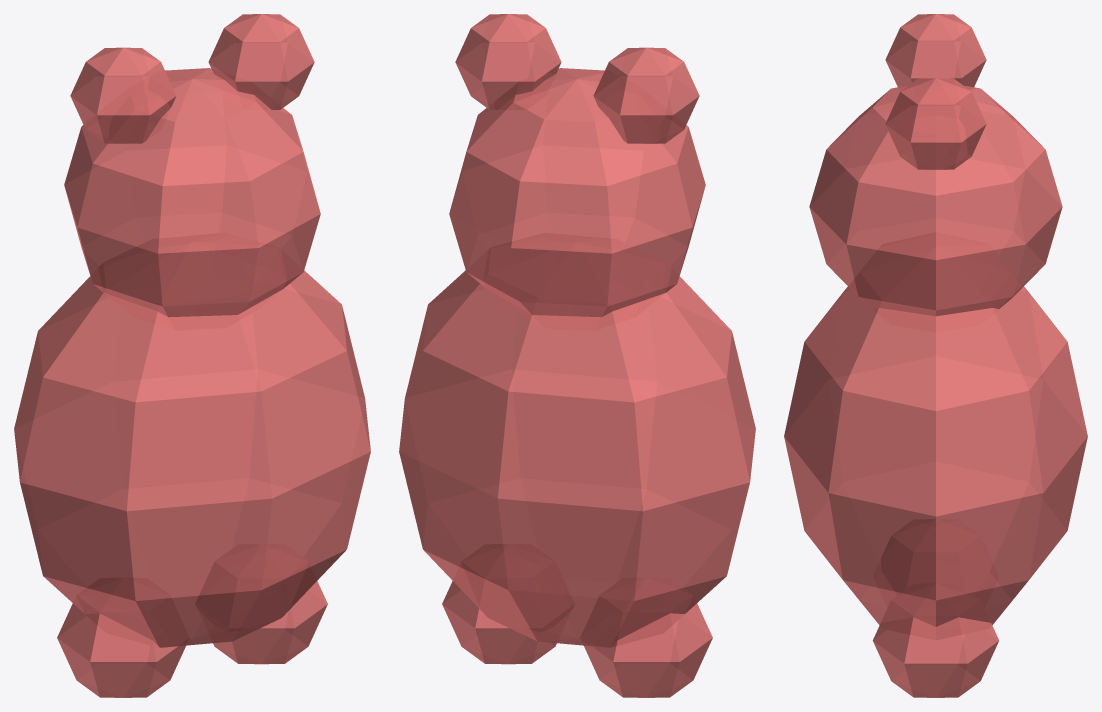
File: gummy_bear.glb
The picture shows the model from 3 angles, left to right: view 1: azimuth 30°, elevation 25°; view 2: azimuth 150°, elevation 25°; view 3: azimuth 270°, elevation 25°; orthographic projection. The views are drawn at different scales.
Visible parts, largest first — view 1: Sphere, Sphere.001, Sphere.004, Sphere.005, Sphere.002, Sphere.003; view 2: Sphere, Sphere.001, Sphere.004, Sphere.005, Sphere.002, Sphere.003; view 3: Sphere, Sphere.001, Sphere.005, Sphere.003, Sphere.004, Sphere.002.
Part boxes in pixels (x1,y1,x2,y2): Sphere: (14, 233, 370, 647); Sphere.001: (64, 68, 320, 329); Sphere.004: (57, 578, 188, 697); Sphere.005: (196, 544, 327, 664); Sphere.002: (70, 47, 176, 143); Sphere.003: (208, 14, 314, 109); Sphere: (399, 233, 755, 647); Sphere.001: (449, 68, 705, 329); Sphere.004: (581, 578, 712, 697); Sphere.005: (442, 544, 573, 664); Sphere.002: (593, 47, 699, 143); Sphere.003: (455, 14, 561, 109); Sphere: (784, 233, 1087, 639); Sphere.001: (809, 85, 1062, 332); Sphere.005: (872, 584, 999, 697); Sphere.003: (885, 78, 986, 169); Sphere.004: (881, 519, 990, 594); Sphere.002: (885, 14, 986, 87).
Bounding box in the file's own units: 0.6 × 1.08 × 0.48.
